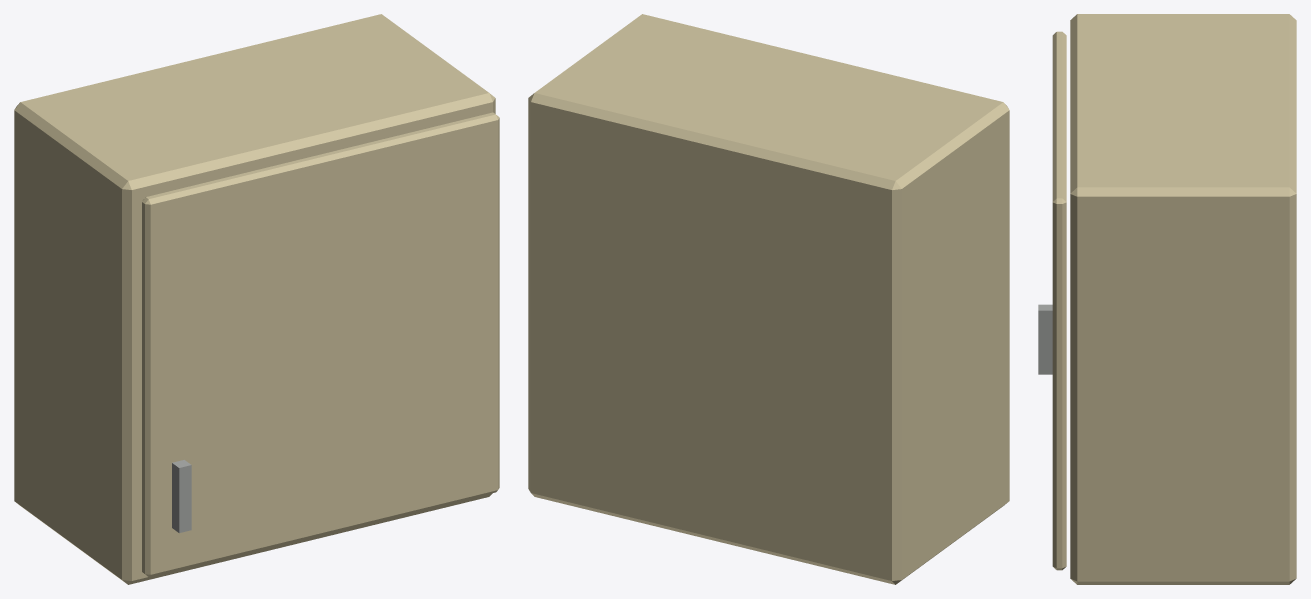
The model's file is wall_cabinet.glb.
3 renders of one model, left to right at view 1: azimuth 30°, elevation 25°; view 2: azimuth 150°, elevation 25°; view 3: azimuth 270°, elevation 25°, orthographic.
Visible parts, largest first — view 1: anim_door_L, WallCabinet; view 2: WallCabinet; view 3: WallCabinet, anim_door_L.
Part boxes in pixels (x1,y1,x2,y2): anim_door_L: [142, 112, 499, 576]; WallCabinet: [14, 14, 495, 584]; WallCabinet: [528, 14, 1009, 584]; WallCabinet: [1070, 14, 1296, 584]; anim_door_L: [1038, 31, 1066, 570].
Bounding box in the file's own units: 0.6 × 0.62 × 0.365.
